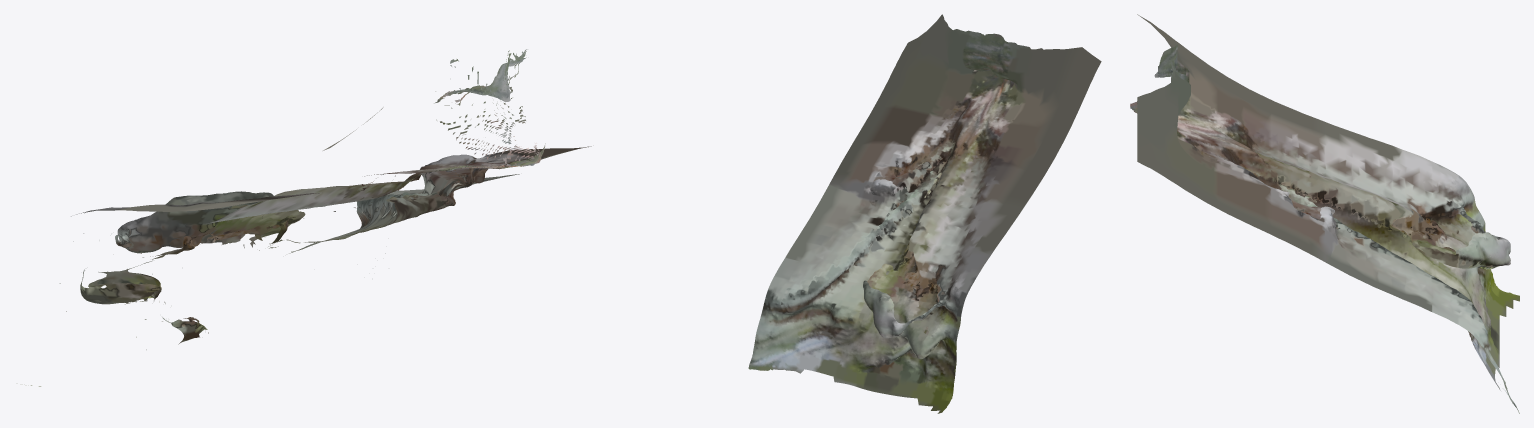
File: 3d_model_stitched_image_20250705_144751.gltf
3 renders of one model, left to right at view 1: azimuth 30°, elevation 25°; view 2: azimuth 150°, elevation 25°; view 3: azimuth 270°, elevation 25°, orthographic. The views are drawn at different scales.
Bounding box in the file's own units: 0.000642 × 0.000792 × 0.000928.
